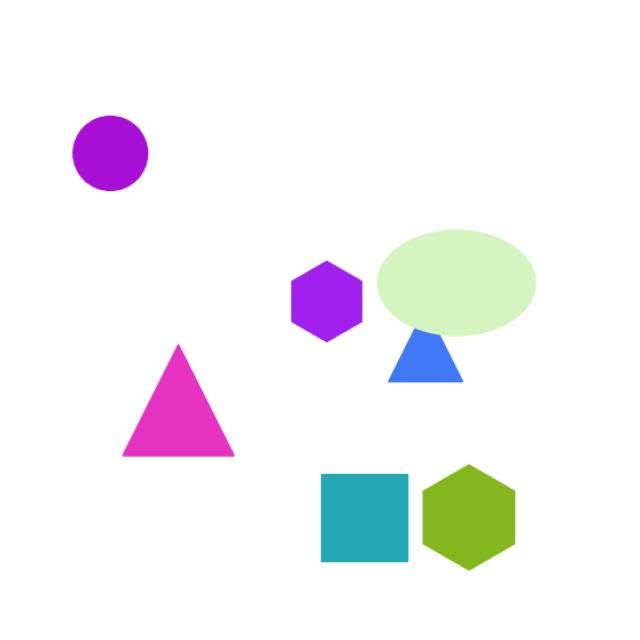Circle: (58, 110, 180, 200)
Hexagon: (420, 458, 525, 577), (277, 250, 374, 356)
Oval: (370, 228, 543, 338)
Triangle: (108, 332, 250, 474), (382, 282, 484, 402)
square: (302, 458, 414, 574)
